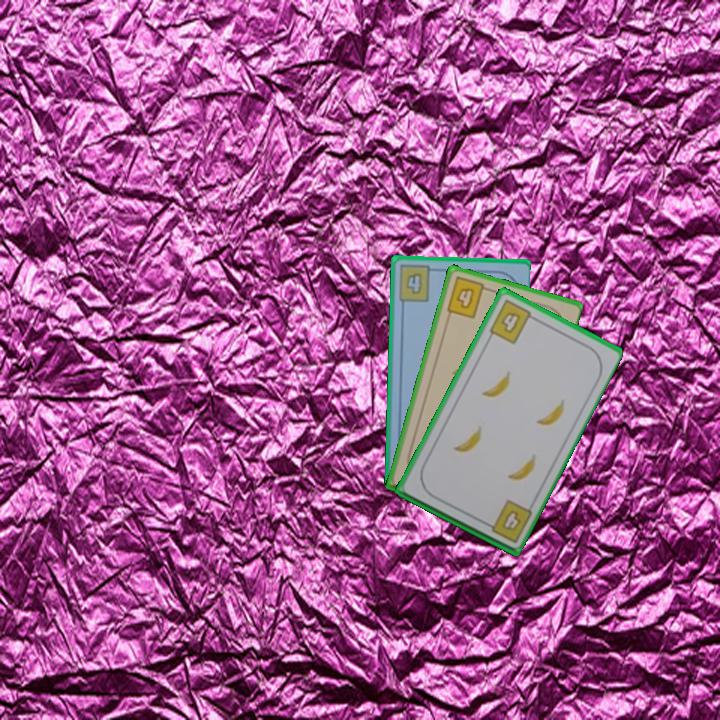4b: (485, 296, 539, 347), (480, 496, 535, 546), (443, 273, 493, 321), (395, 262, 439, 304)
